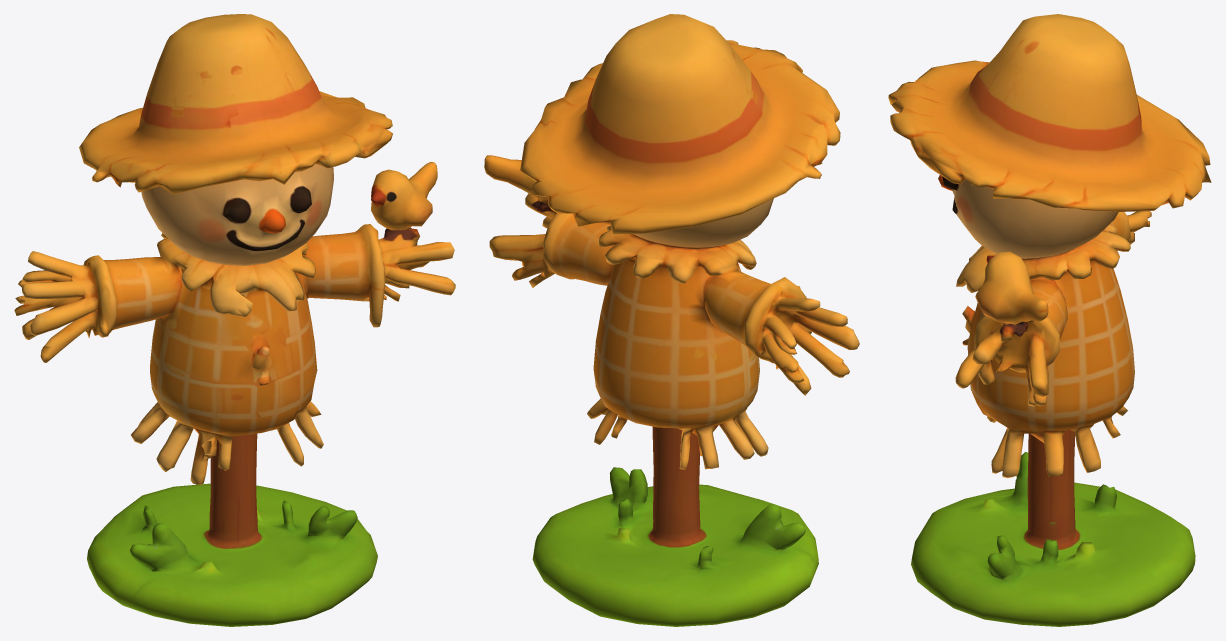
The picture shows the model from 3 angles, left to right: view 1: azimuth 30°, elevation 25°; view 2: azimuth 150°, elevation 25°; view 3: azimuth 270°, elevation 25°; orthographic projection.
Visible parts, largest first — view 1: scarecrow; view 2: scarecrow; view 3: scarecrow.
Boxes of the visible parts, x1,y1,x2,y2 form: scarecrow: (14, 14, 455, 626); scarecrow: (484, 14, 859, 626); scarecrow: (888, 14, 1211, 626).
Bounding box in the file's own units: 1.41 × 1.9 × 1.01.
1 material, 1 textured.
